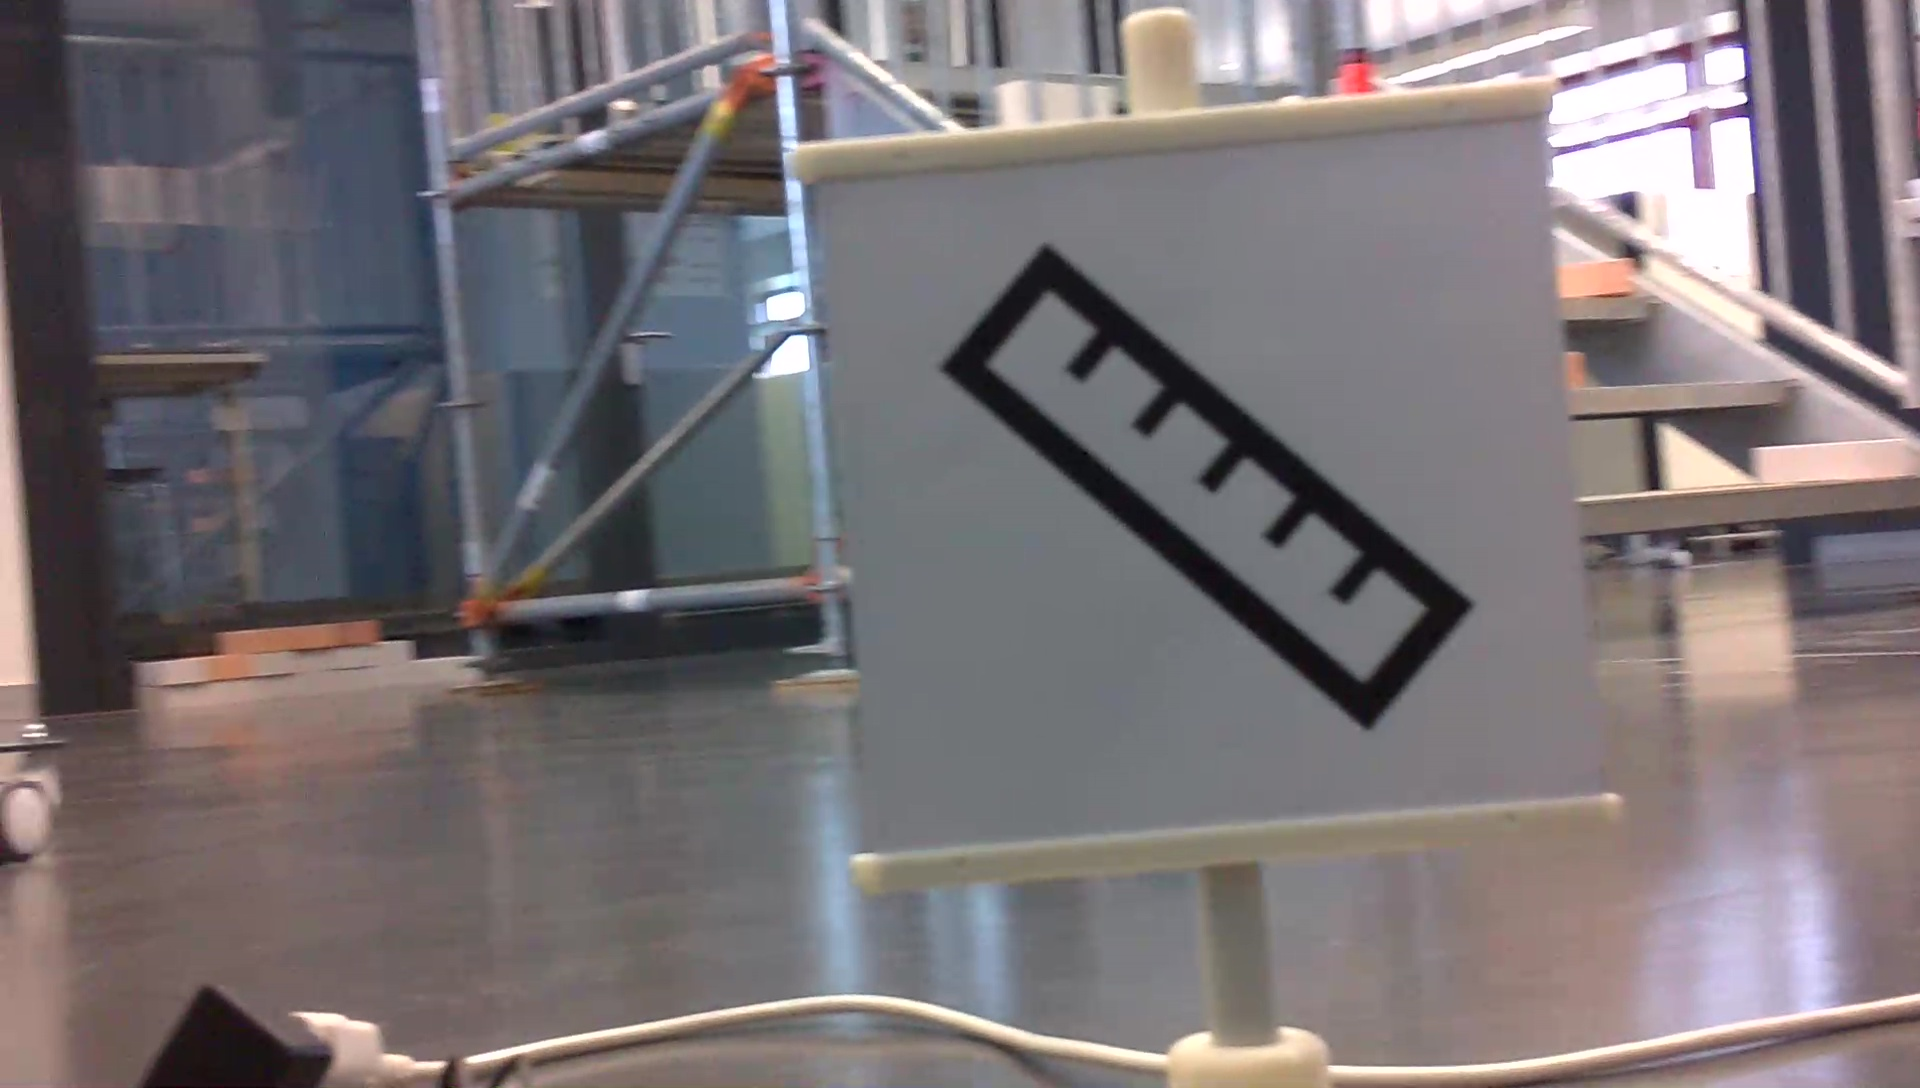brick: (1758, 438, 1913, 481), (1549, 247, 1631, 299)
ruler: (920, 248, 1476, 731)
